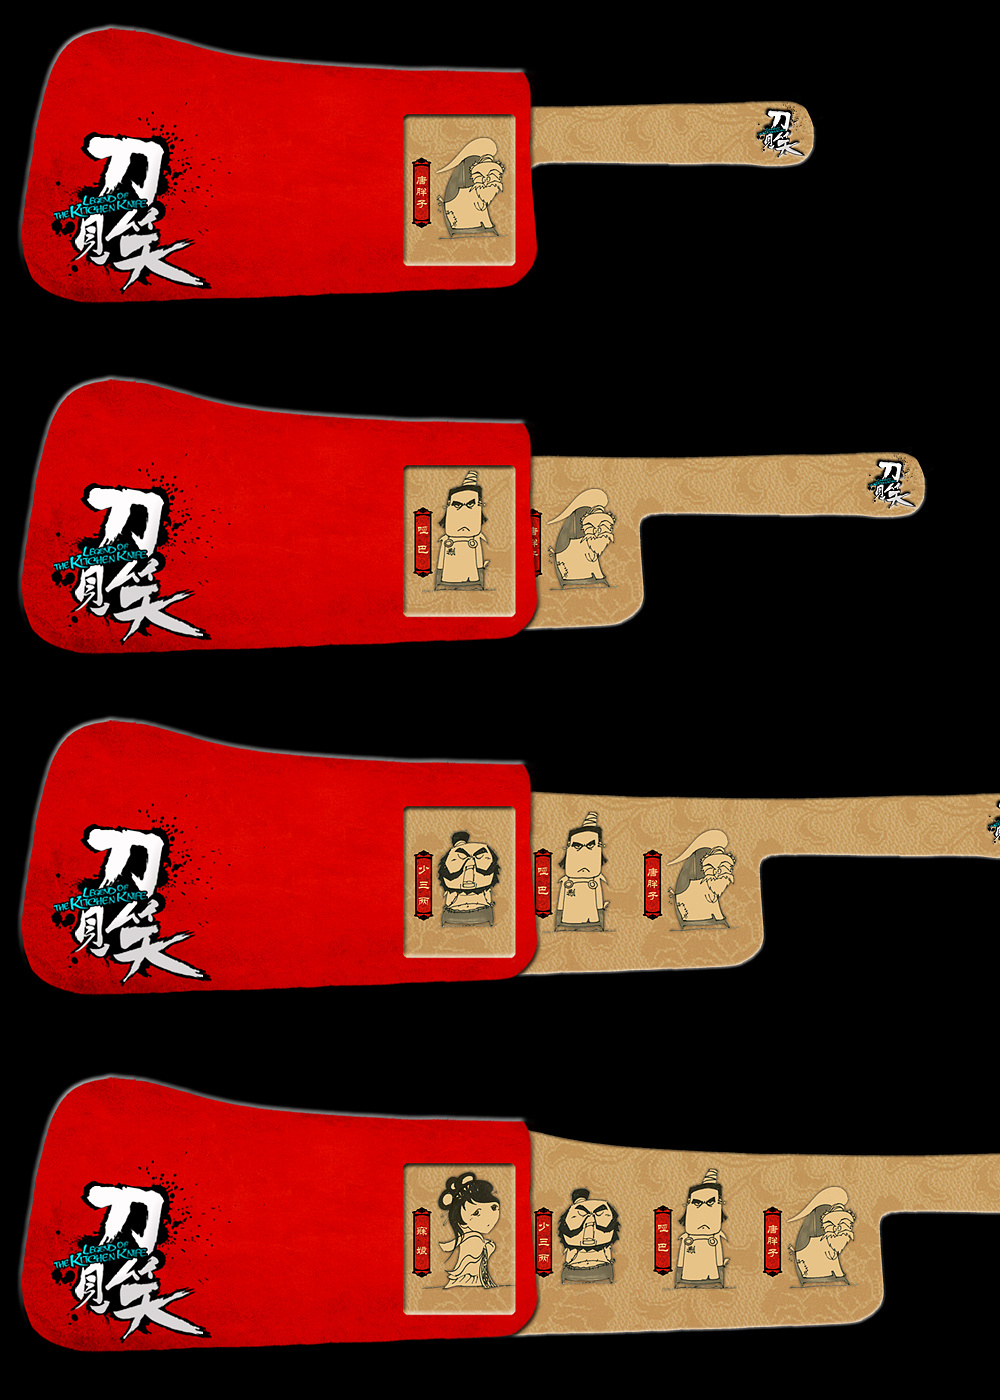knief: (73, 702, 981, 1001)
